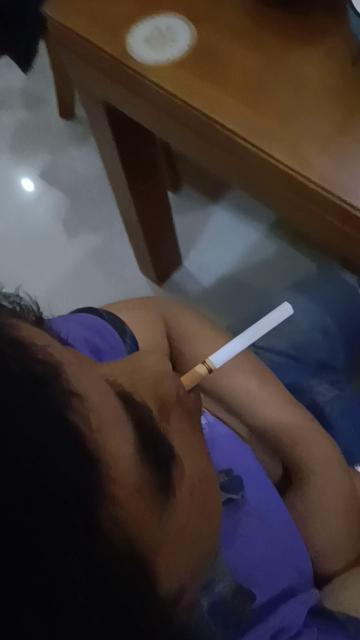Smoking: (182, 301, 296, 391)
